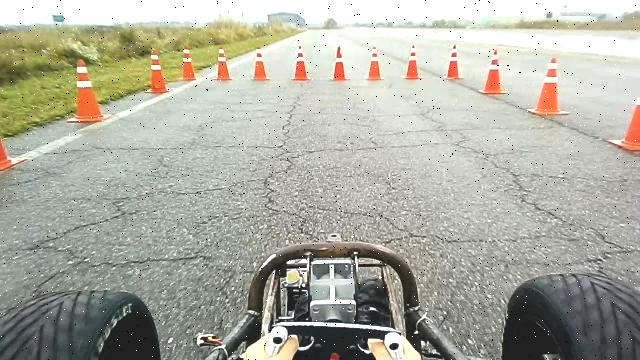red cone: (66, 57, 111, 122), (527, 56, 569, 116), (478, 48, 508, 95), (144, 48, 170, 93), (328, 44, 351, 81), (442, 43, 464, 80), (403, 44, 423, 80), (250, 46, 270, 81), (364, 45, 384, 80), (292, 44, 310, 81), (179, 45, 197, 81), (212, 48, 232, 80)
